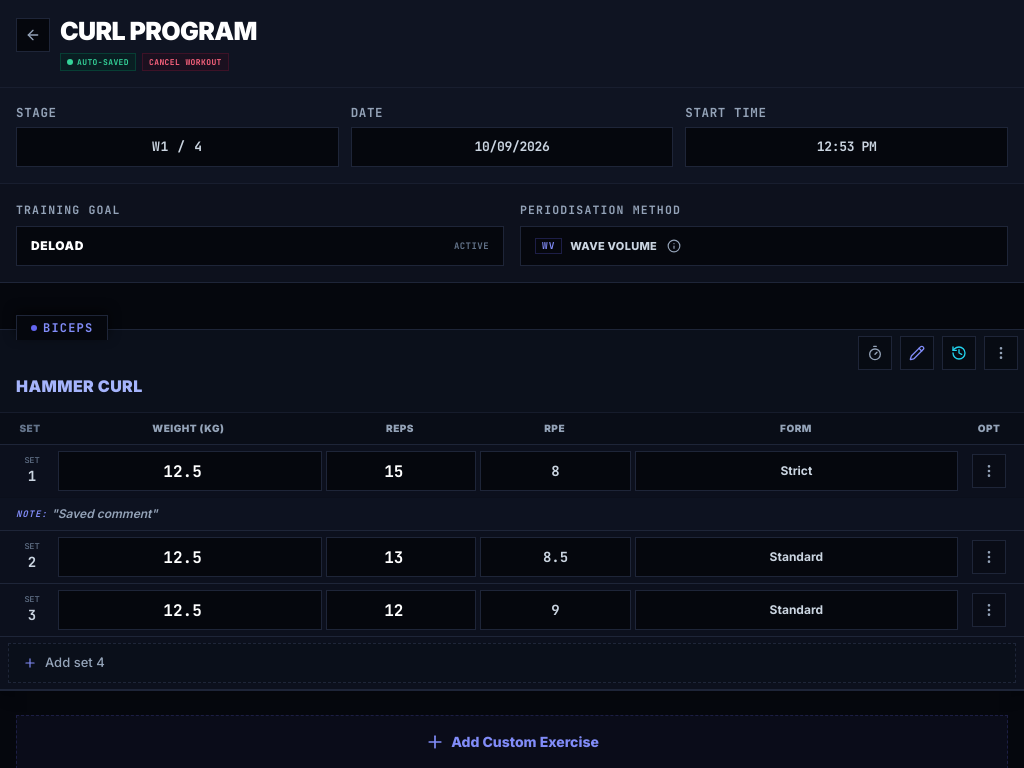
Test: Prog Goal in Workout Logger › disables Prog Goal for a Deload session without an eligible exercise
Click the 1st button named "Set options; press and hold to reorder": coordinates (989, 471) [972,454,1006,488]
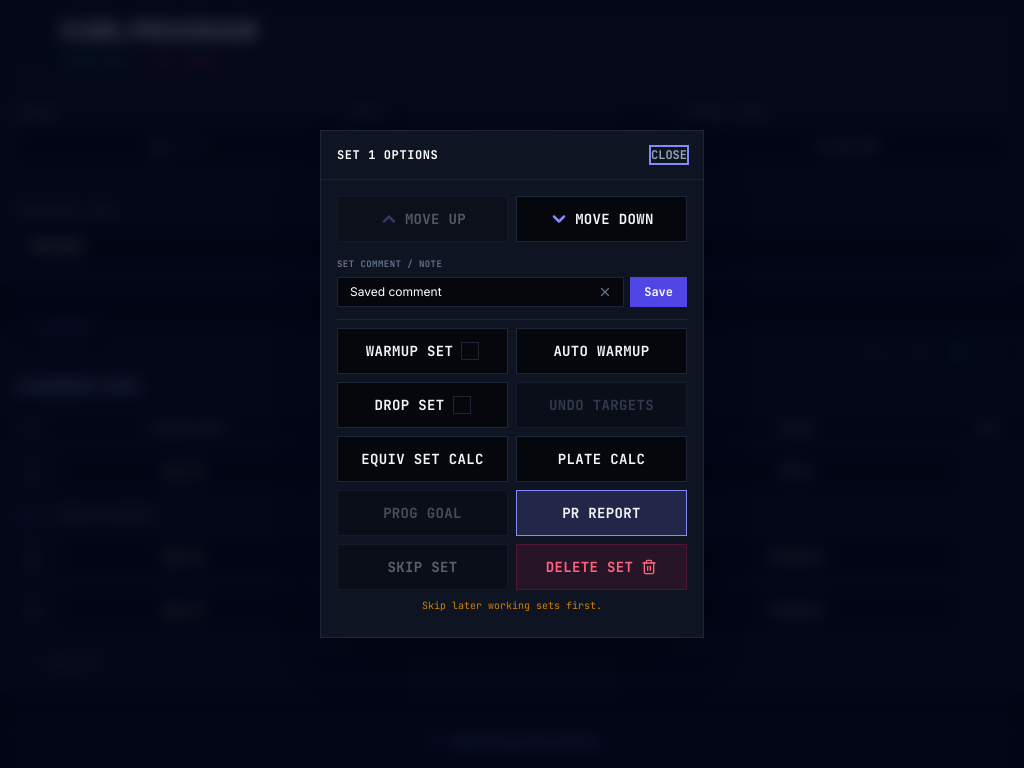
Check: the button "Prog Goal" is disabled, box [337,490,508,536]
